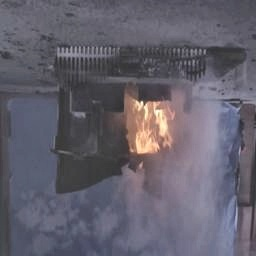fire: (116, 89, 179, 168)
